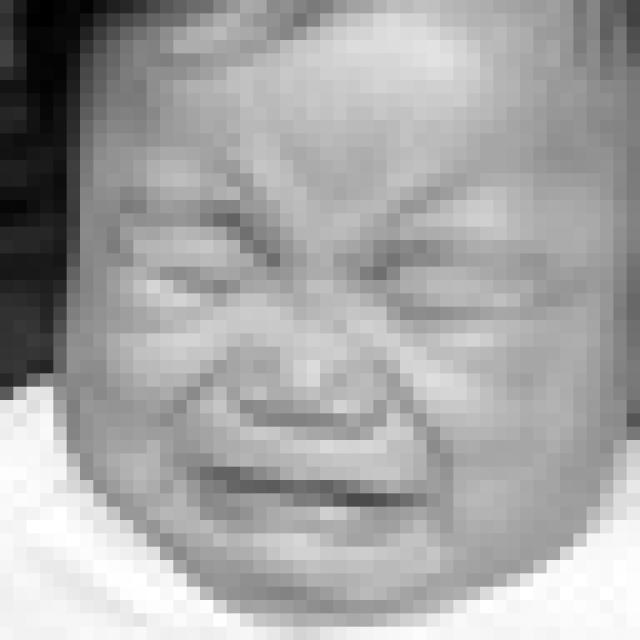sad: (94, 127, 588, 555)
